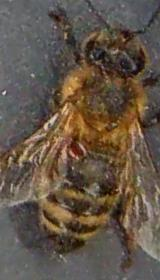varroa_mite: (66, 128, 90, 168)
